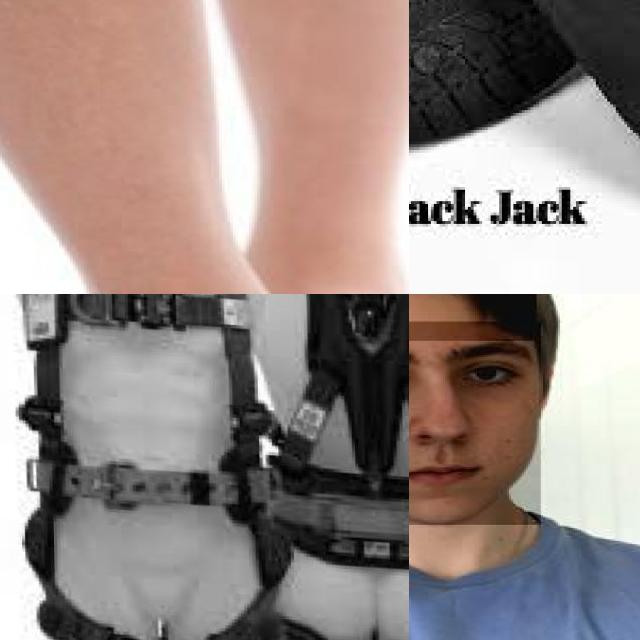Harness: (20, 294, 255, 420), (282, 294, 409, 478)
No_Glasses: (409, 334, 536, 406)
Sandals: (409, 0, 640, 294)
face_nomask: (409, 321, 540, 524)
person: (409, 294, 640, 640)
